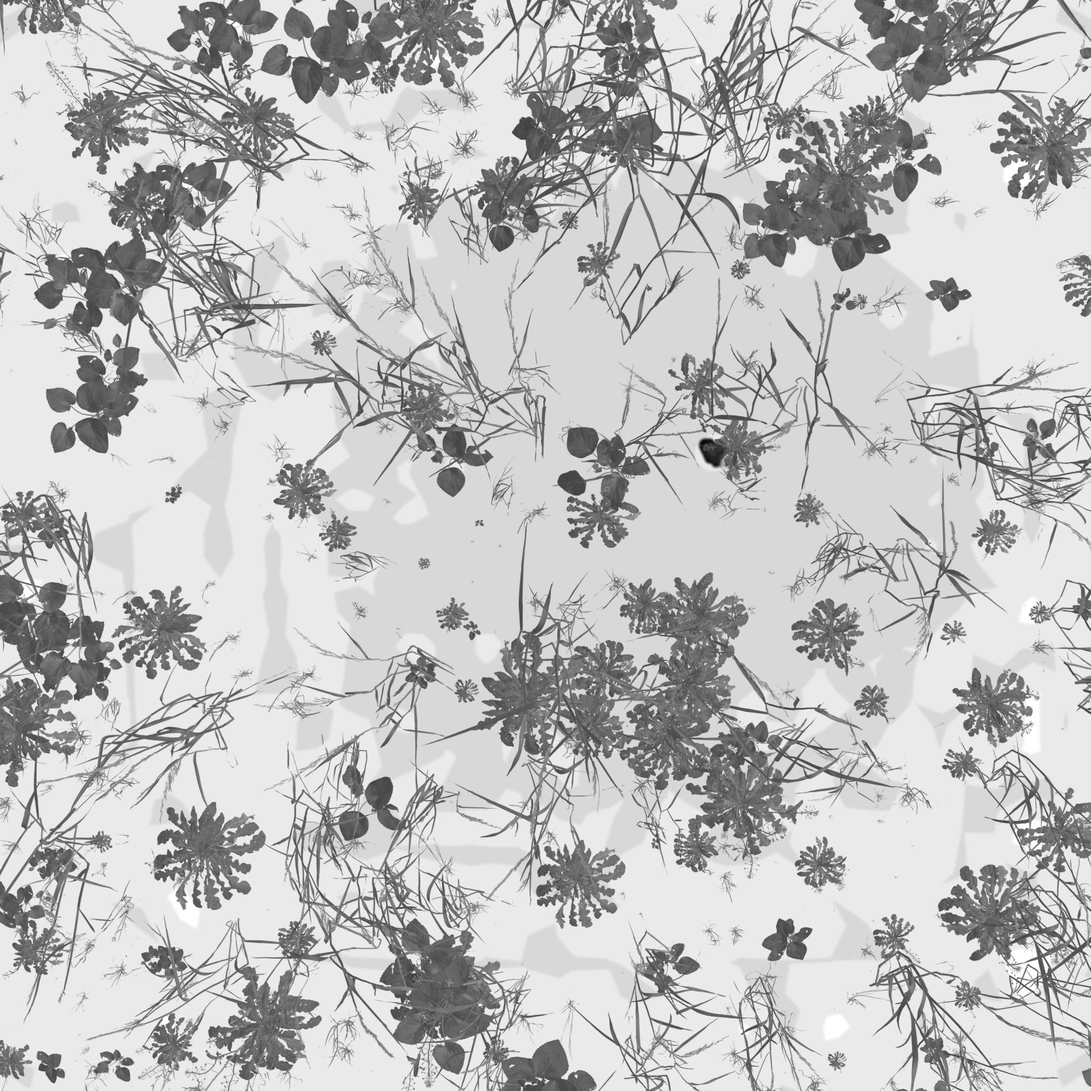landmine: (698, 434, 750, 472)
